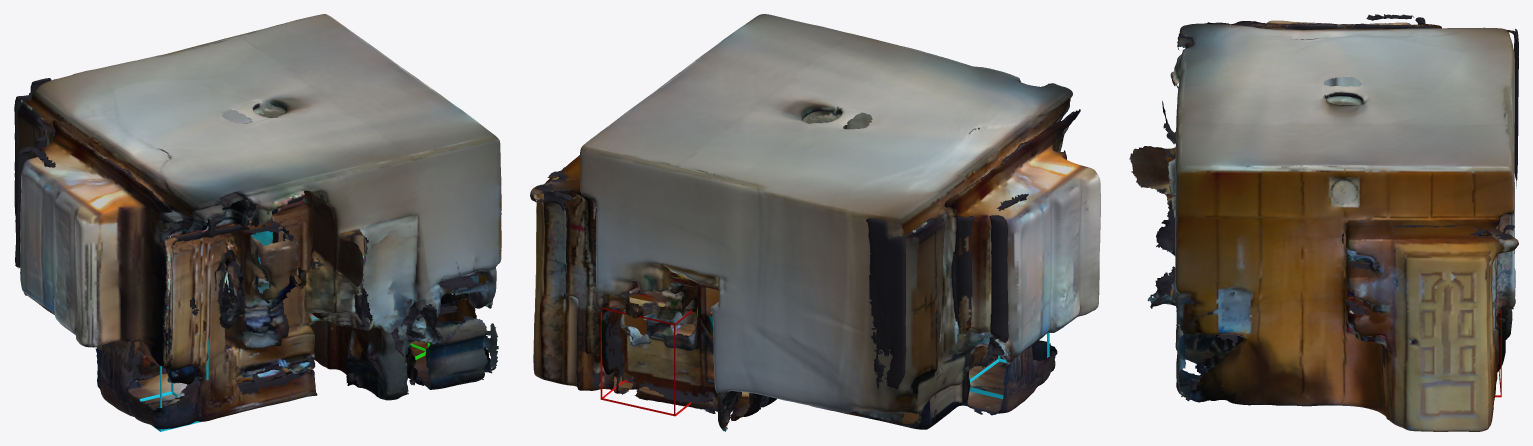
Rendered from multiscan_scene_00106_05.glb.
3 renders of one model, left to right at view 1: azimuth 30°, elevation 25°; view 2: azimuth 150°, elevation 25°; view 3: azimuth 270°, elevation 25°, orthographic. The views are drawn at different scales.
Visible parts, largest first — view 1: scene_00106_05; view 2: scene_00106_05, Cube.002; view 3: scene_00106_05.
Boxes of the visible parts, x1,y1,x2,y2 form: scene_00106_05: (14,14,501,429); scene_00106_05: (530,14,1100,431); Cube.002: (600,294,697,416); scene_00106_05: (1129,14,1518,431).
Size of the model in its own units: 4.69 by 2.61 by 3.79.
